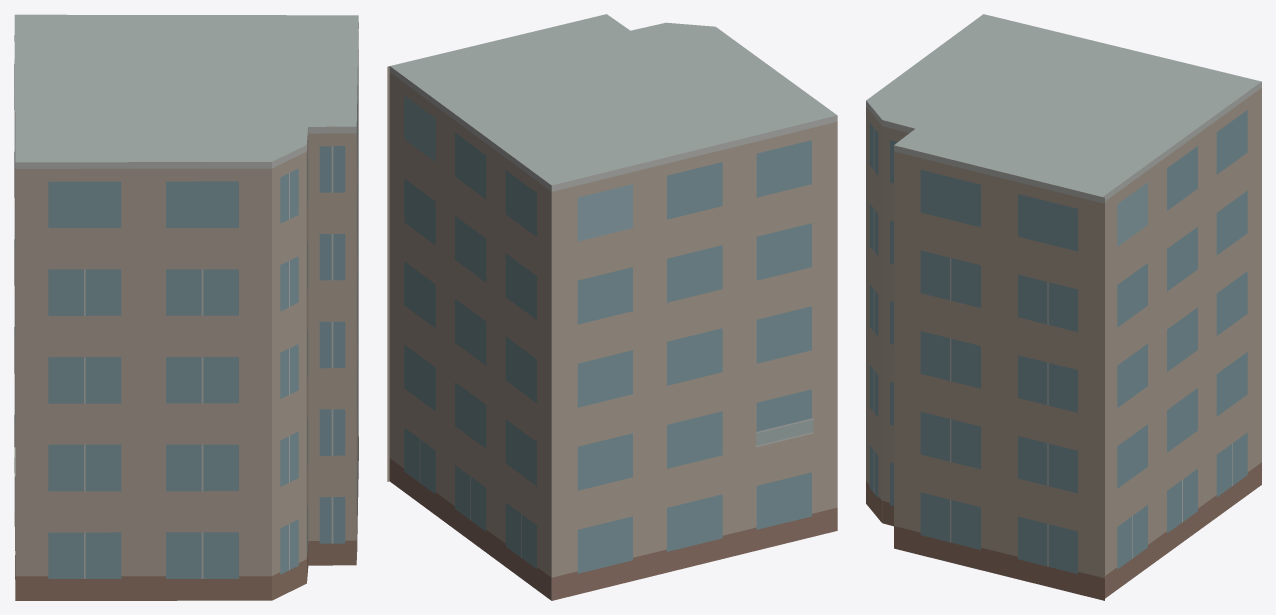
Rendered from survey-upis-32559969.glb.
3 views of the same model, side by side, from view 1: azimuth 30°, elevation 25°; view 2: azimuth 150°, elevation 25°; view 3: azimuth 270°, elevation 25° (orthographic). The views are drawn at different scales.
Parts seen in each view (by area): view 1: survey-upis-32559969.tmp; view 2: survey-upis-32559969.tmp; view 3: survey-upis-32559969.tmp.
Boxes of the visible parts, <box> form: survey-upis-32559969.tmp: <box>14,14,358,600</box>; survey-upis-32559969.tmp: <box>387,14,837,600</box>; survey-upis-32559969.tmp: <box>866,14,1261,600</box>.
Bounding box in the file's own units: 15.74 × 16.1 × 14.33.
